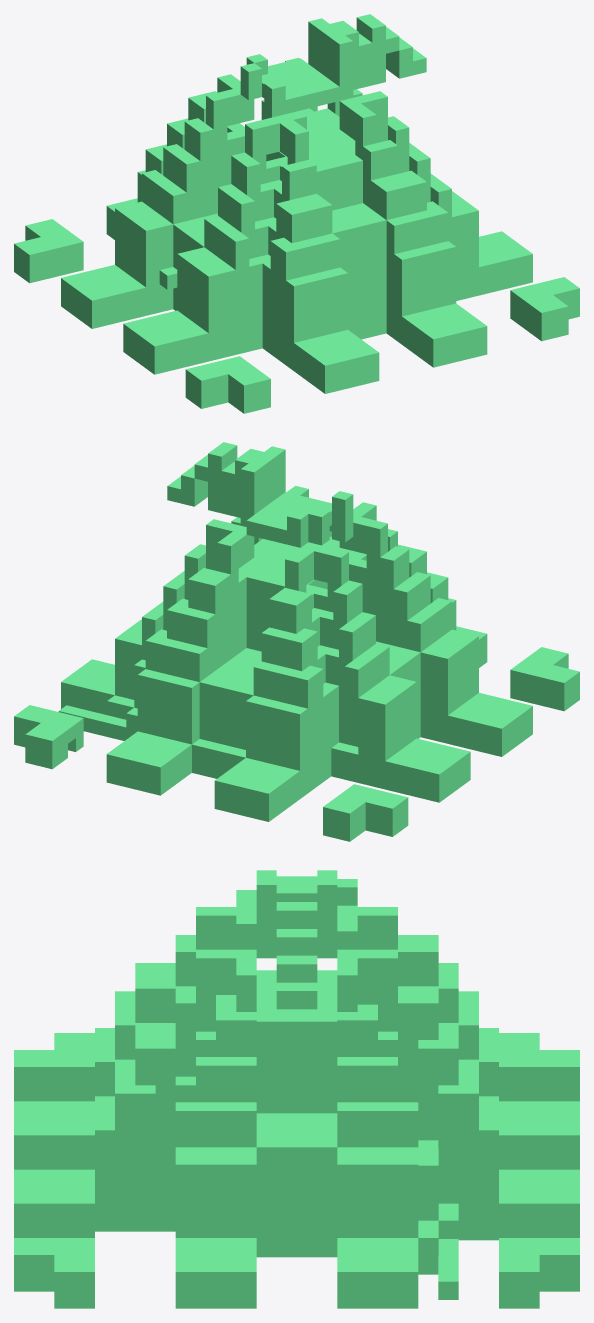
3 renders of one model, top to bottom at view 1: azimuth 30°, elevation 25°; view 2: azimuth 150°, elevation 25°; view 3: azimuth 270°, elevation 25°, orthographic. The views are drawn at different scales.
Visible parts, largest first — view 1: 63; view 2: 63; view 3: 63.
Boxes of the visible parts, bbox=[...] form: 63: bbox=[14, 14, 579, 413]; 63: bbox=[14, 442, 579, 841]; 63: bbox=[14, 870, 579, 1308].
Size of the model in its own units: 280 by 180 by 280.
1 material, 1 textured.
